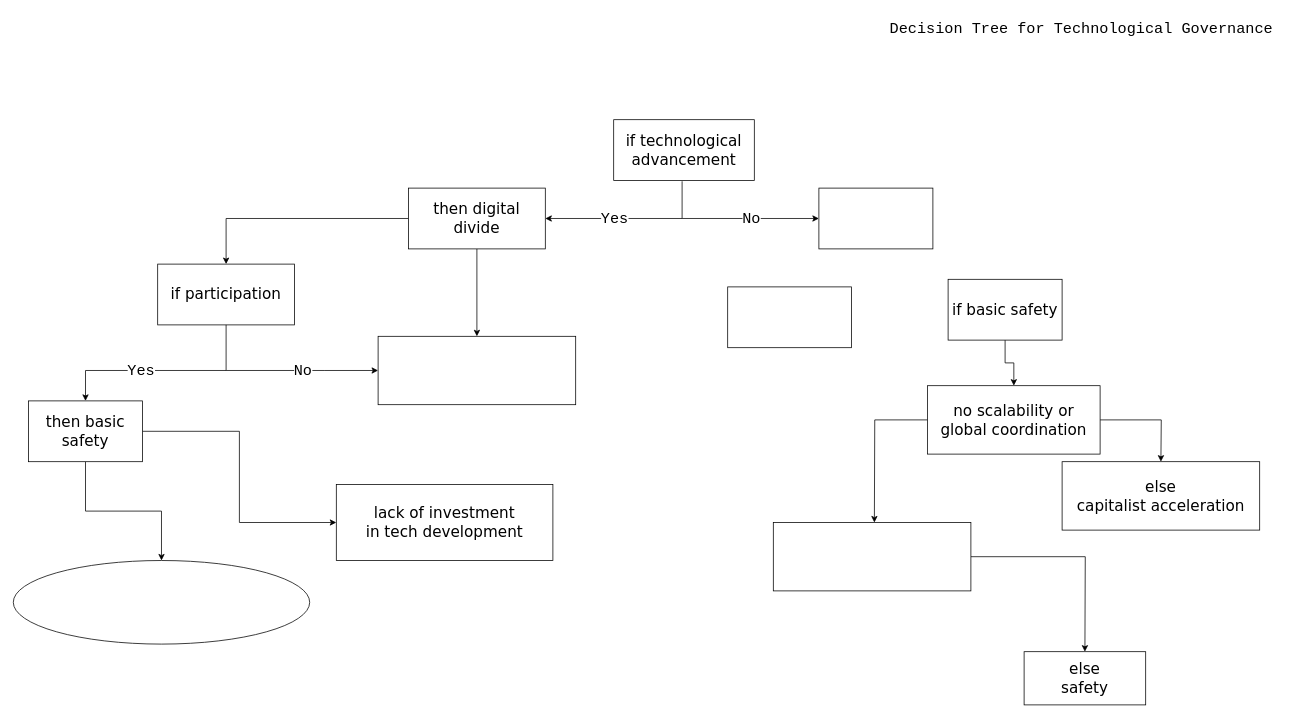
Some shapes in this 1296 by 718 pixel diagram are drawn without their labels. Here are the shapes that lost their labels. From the top down, the box of each, then its label:
(818, 187, 933, 249): else stagnation
(727, 286, 852, 348): then participation
(377, 336, 576, 405): then capitalist acceleration
(773, 522, 971, 591): then decentralized decision-making
(13, 560, 310, 644): shared power and decision-making
